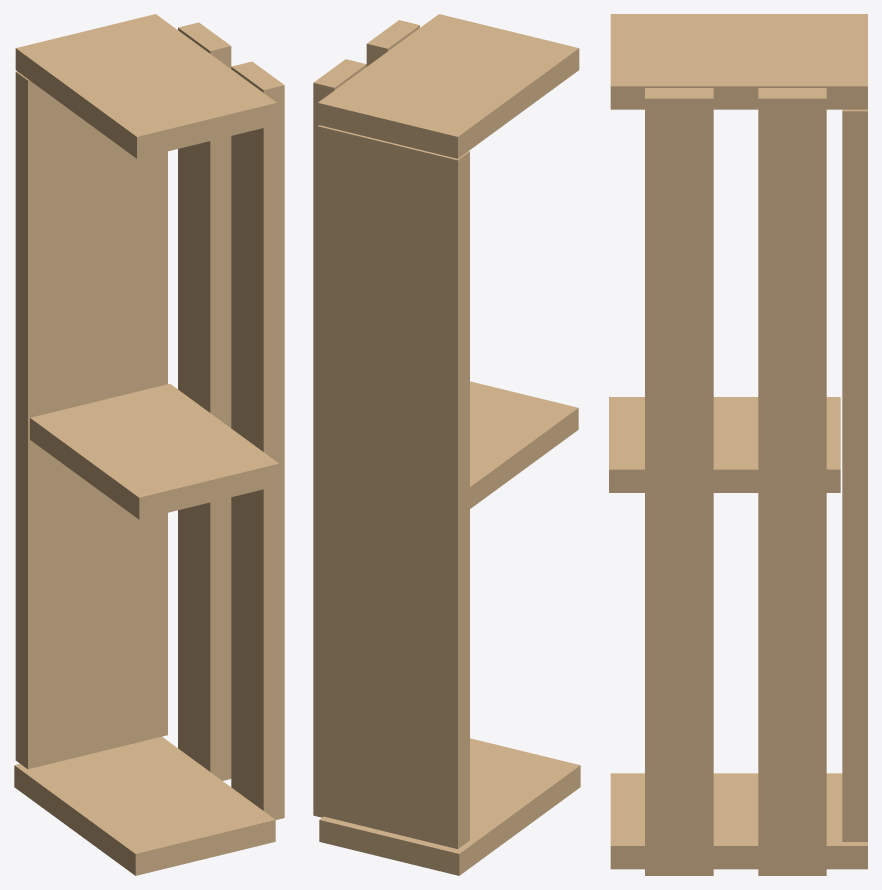
Rendered from tinker.obj.
3 renders of one model, left to right at view 1: azimuth 30°, elevation 25°; view 2: azimuth 150°, elevation 25°; view 3: azimuth 270°, elevation 25°, orthographic. The views are drawn at different scales.
Visible parts, largest first — view 1: obj_0; view 2: obj_0; view 3: obj_0.
Boxes of the visible parts, x1,y1,x2,y2 form: obj_0: (14, 14, 284, 875); obj_0: (313, 14, 580, 875); obj_0: (609, 14, 867, 875).
Bounding box in the file's own units: 118 × 504 × 151.
